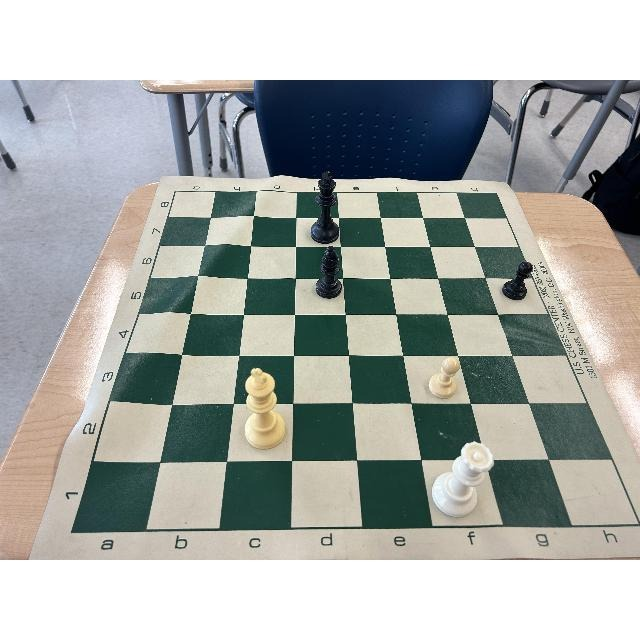black-bishop: (315, 247, 342, 299)
black-king: (309, 171, 340, 243)
black-pawn: (502, 260, 532, 300)
white-king: (244, 367, 286, 451)
white-pawn: (427, 357, 460, 399)
white-queen: (432, 441, 493, 519)
